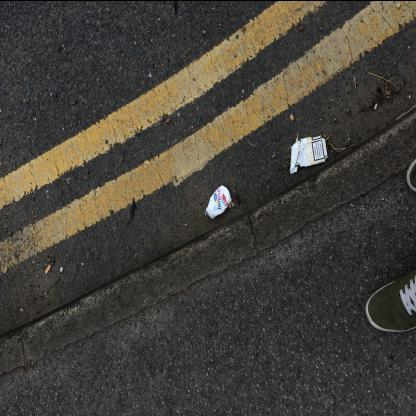karton: (290, 134, 328, 174)
plastik: (206, 184, 232, 218)
